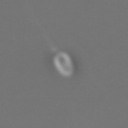normal: (21, 1, 61, 51)
